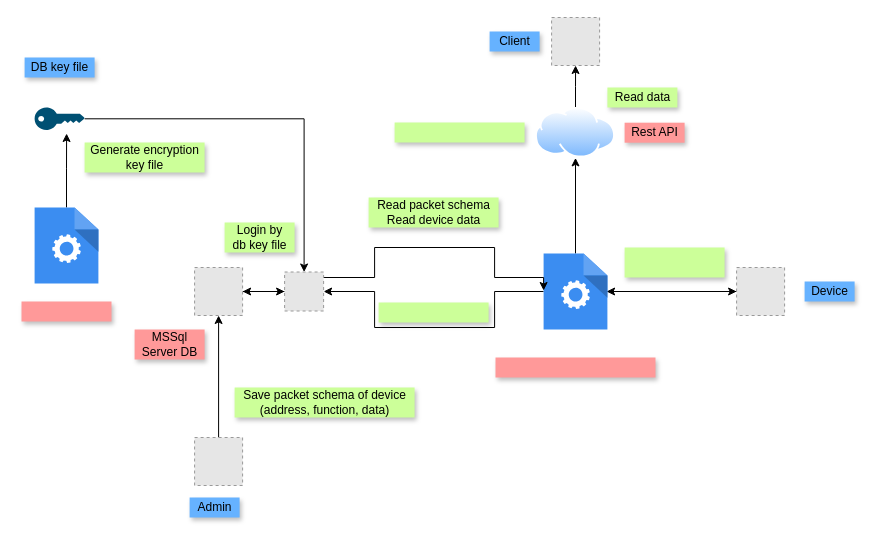
Image size: 878x542. Some labels were removed from this diagram. Grey dashed boxes stand in for pictures. Here are the shapes that lost their labels. From the top down, the centre of each, then its label:
At (x=460, y=133): "Expose localhost:xxxx".
At (x=675, y=263): "Send command and fetch data".
At (x=67, y=312): "Key generator".
At (x=434, y=313): "Write device data".
At (x=576, y=368): "SMAC background service".
